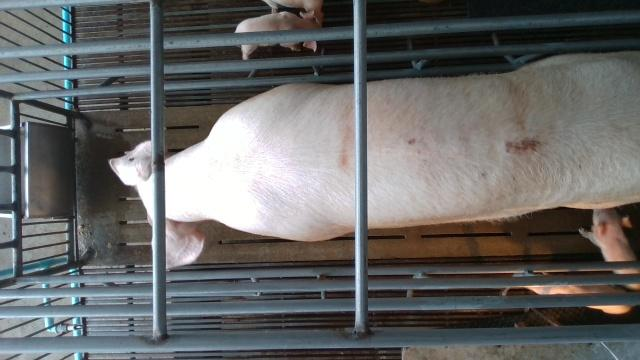piglet: (578, 207, 640, 288), (234, 10, 321, 60), (526, 273, 632, 313)
sow-stand: (108, 51, 640, 271)
